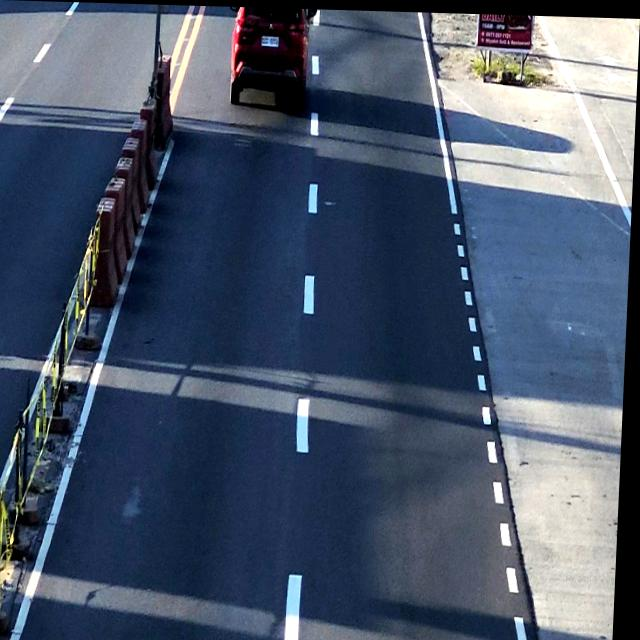Car: (229, 6, 313, 108)
License-Plate: (259, 30, 281, 49)
